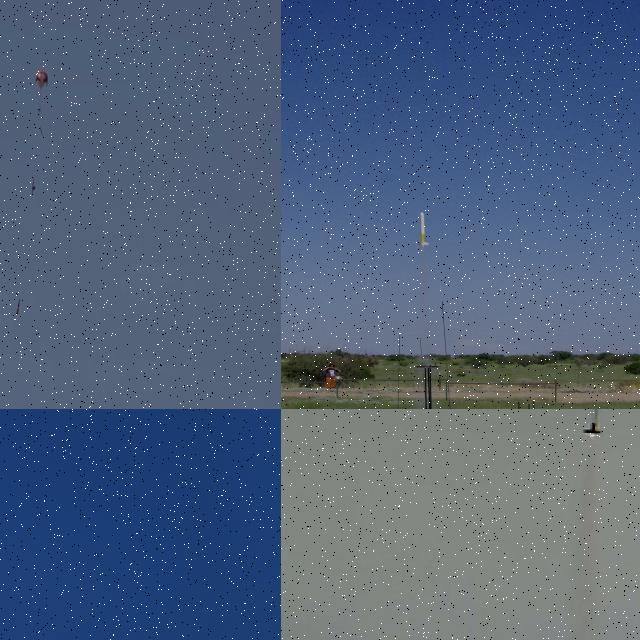Rocket: (582, 409, 606, 435), (417, 212, 430, 248), (15, 298, 21, 315)
